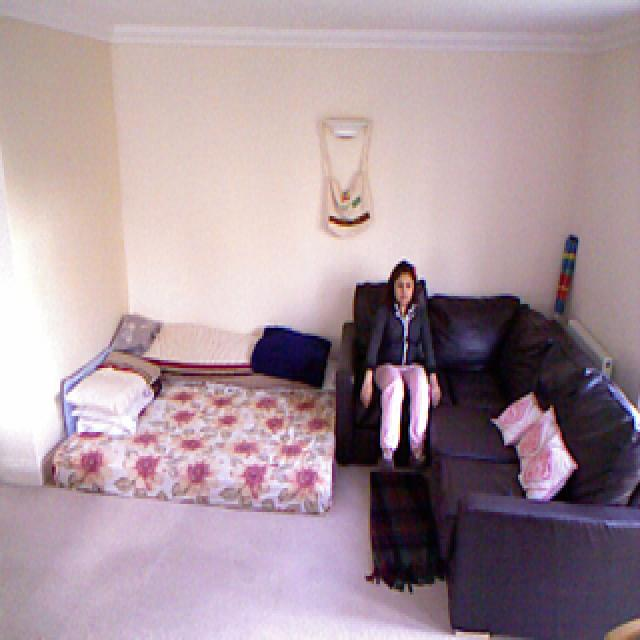sitting: (362, 260, 444, 472)
